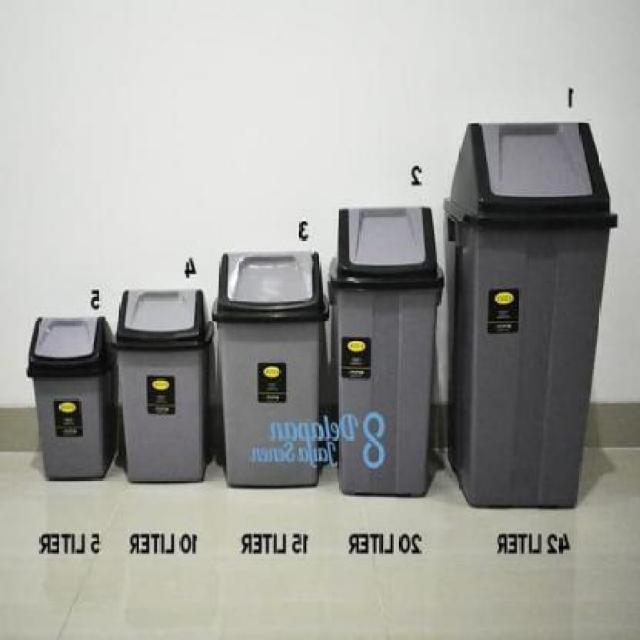garbage container: (446, 111, 620, 524), (328, 200, 444, 502), (215, 240, 330, 506), (114, 285, 214, 492), (21, 312, 116, 493)
